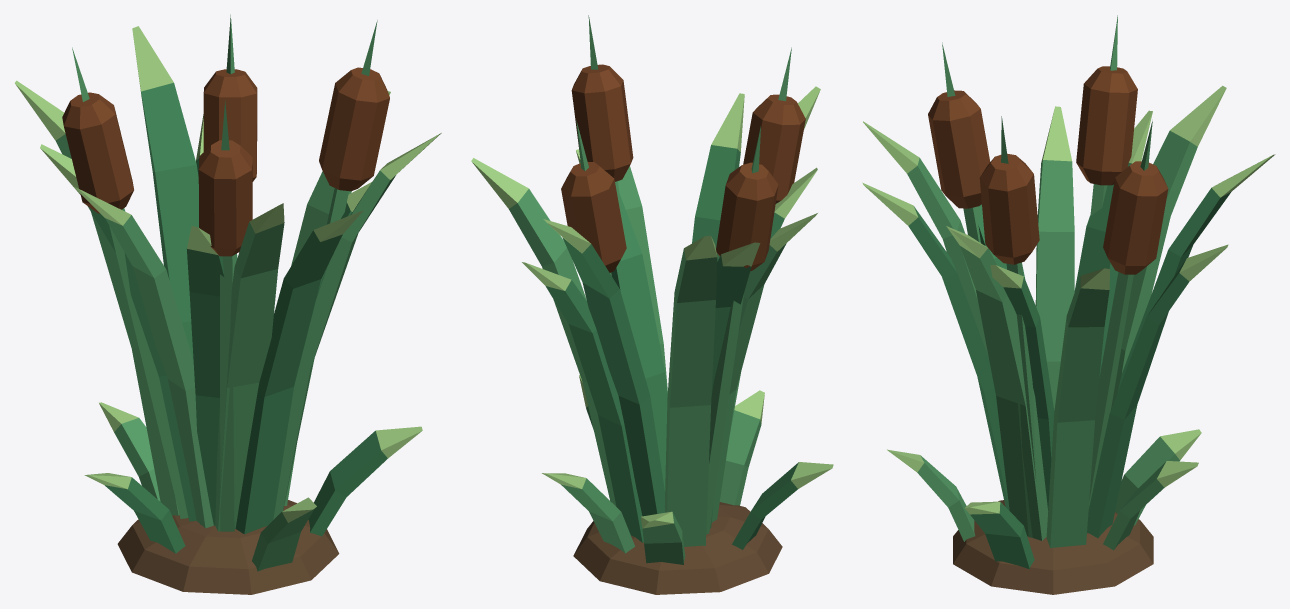
Rendered from tuft_reeds.glb.
The picture shows the model from 3 angles, left to right: view 1: azimuth 30°, elevation 25°; view 2: azimuth 150°, elevation 25°; view 3: azimuth 270°, elevation 25°; orthographic projection. The views are drawn at different scales.
Visible parts, largest first — view 1: Grass__549E66, Grass__408A58, Fabric__744222, Mud__5E462E, Grass__9CCC7E; view 2: Grass__549E66, Grass__408A58, Fabric__744222, Mud__5E462E, Grass__9CCC7E; view 3: Grass__549E66, Fabric__744222, Grass__408A58, Grass__9CCC7E, Mud__5E462E.
Part boxes in pixels (box(x1,y1,x2,y2)): Grass__549E66: box(56, 14, 395, 571); Grass__408A58: box(88, 82, 387, 553); Fabric__744222: box(62, 67, 389, 256); Mud__5E462E: box(117, 500, 339, 594); Grass__9CCC7E: box(15, 26, 441, 522); Grass__549E66: box(509, 15, 791, 564); Grass__408A58: box(545, 145, 798, 549); Fabric__744222: box(561, 64, 805, 272); Mud__5E462E: box(573, 502, 782, 594); Grass__9CCC7E: box(471, 86, 833, 528); Grass__549E66: box(907, 15, 1197, 550); Fabric__744222: box(928, 66, 1168, 274); Grass__408A58: box(908, 163, 1230, 569); Grass__9CCC7E: box(862, 85, 1275, 514); Mud__5E462E: box(953, 500, 1153, 594).
Size of the model in its own units: 5.51 by 7.97 by 6.07.
